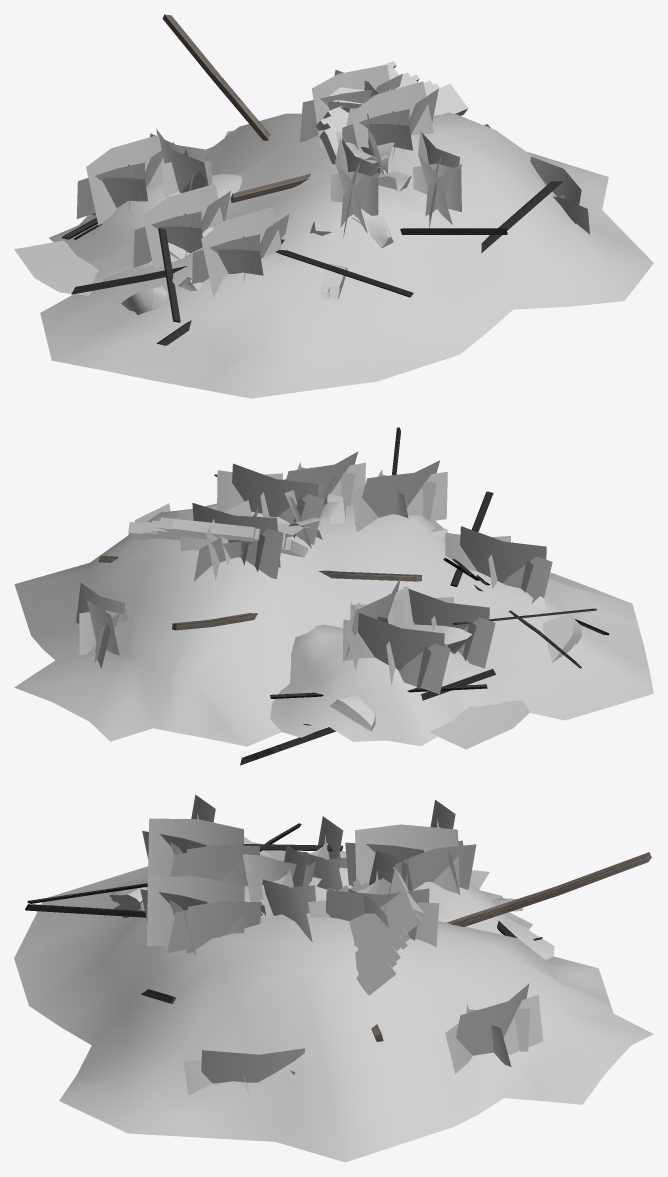
File: shut big LODGroup.fbx
3 renders of one model, top to bottom at view 1: azimuth 30°, elevation 25°; view 2: azimuth 150°, elevation 25°; view 3: azimuth 270°, elevation 25°, orthographic. The views are drawn at different scales.
Parts seen in each view (by area): view 1: shut_big_LOD0; view 2: shut_big_LOD0; view 3: shut_big_LOD0.
Part boxes in pixels (x1,y1,x2,y2): shut_big_LOD0: (14,14,653,398); shut_big_LOD0: (14,427,653,765); shut_big_LOD0: (14,794,653,1162).
Size of what is drawn, in the model's own units: 11.88 by 3.34 by 9.95.
